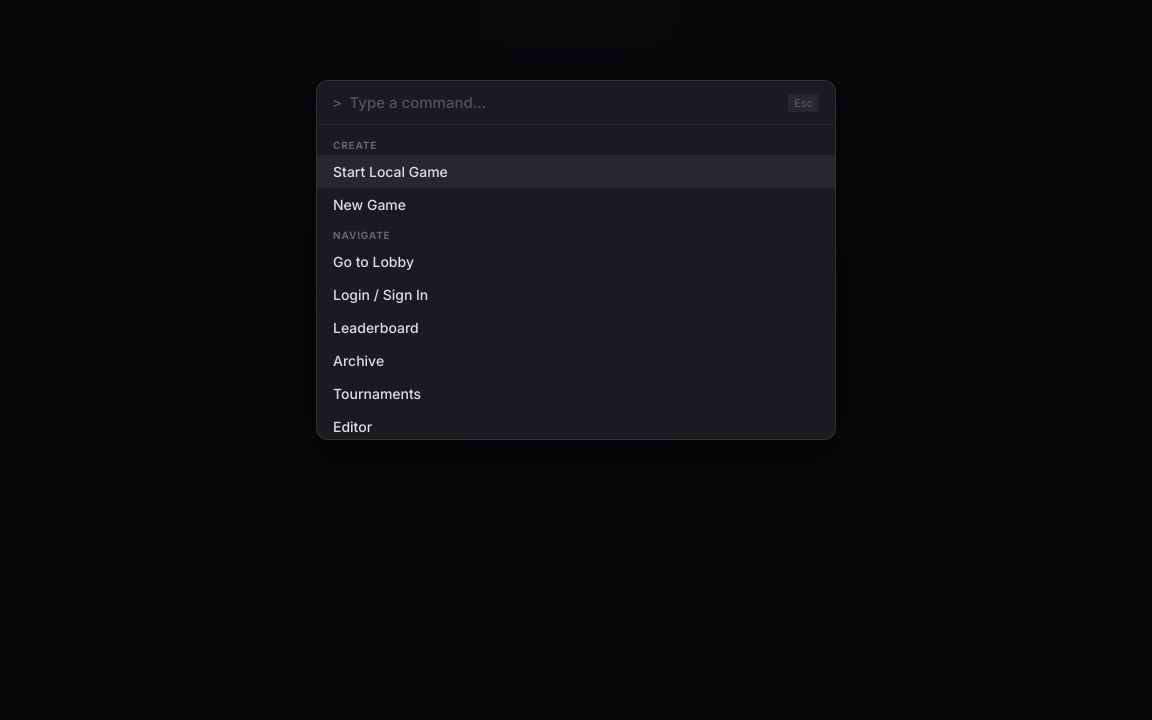
CommandPalette › search filtering › typing "logout" finds the logout command
Type "logout" into the field with placeholder "Type a command..." at (565, 102), box [349,93,780,112]
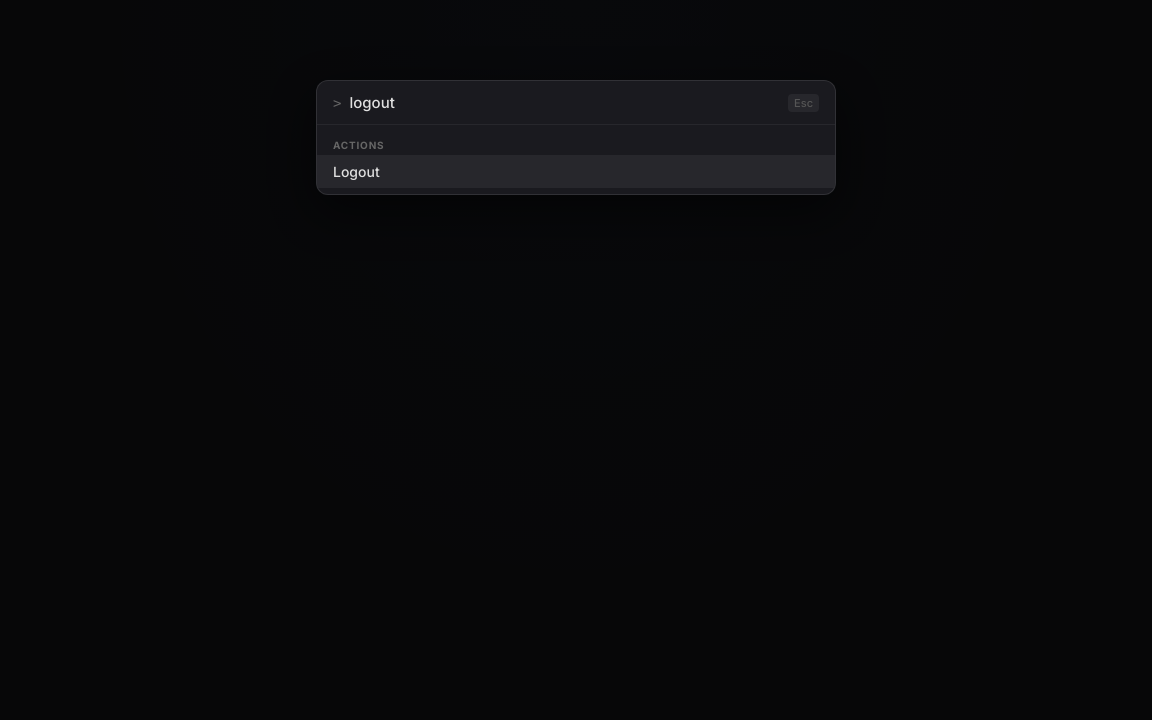
expect the text "Logout" is shown: met, box [317,155,835,188]
